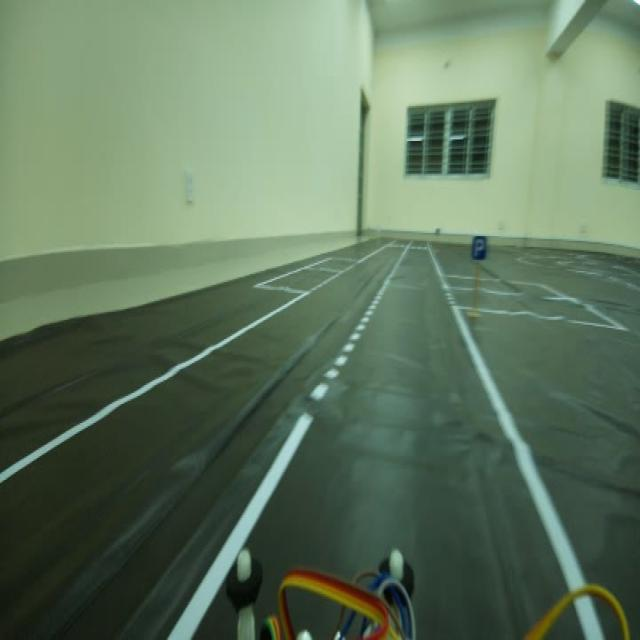parking: (467, 230, 489, 266)
